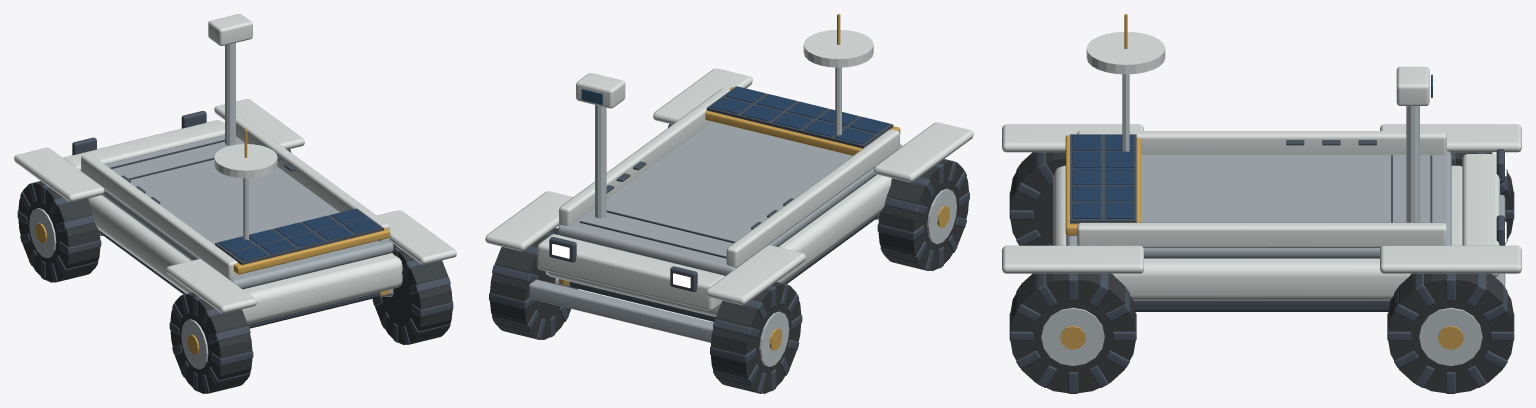
The model's file is improved_rover.glb.
3 views of the same model, side by side, from view 1: azimuth 30°, elevation 25°; view 2: azimuth 150°, elevation 25°; view 3: azimuth 270°, elevation 25° (orthographic). The views are drawn at different scales.
Visible parts, largest first — view 1: Deck, Chassis, Wheel_RL, Wheel_FL, SideRail_L, Wheel_RR, SideRail_R, Fender_FL, Fender_RL, Nose, Fender_RR, AntennaDish (+8 smaller); view 2: Deck, Nose, Chassis, Wheel_FL, SideRail_L, Wheel_RL, FrontBumper, SideRail_R, Wheel_FR, Fender_RL, Fender_FL, Fender_FR (+11 smaller); view 3: Deck, Chassis, SideRail_R, Wheel_FR, Wheel_RR, SideRail_L, Fender_FR, Fender_RR, Nose, Wheel_RL, Belly, AntennaDish (+21 smaller).
Part boxes in pixels (x1=…): Deck: x1=81, y1=135, x2=393, y2=289; Chassis: x1=88, y1=195, x2=402, y2=324; Wheel_RL: x1=170, y1=293, x2=252, y2=393; Wheel_FL: x1=18, y1=181, x2=100, y2=282; SideRail_L: x1=81, y1=154, x2=238, y2=279; Wheel_RR: x1=375, y1=244, x2=452, y2=344; SideRail_R: x1=236, y1=117, x2=389, y2=241; Fender_FL: x1=14, y1=147, x2=104, y2=201; Fender_RL: x1=166, y1=259, x2=256, y2=313; Nose: x1=63, y1=120, x2=224, y2=170; Fender_RR: x1=377, y1=210, x2=456, y2=264; AntennaDish: x1=214, y1=144, x2=277, y2=178; Deck: x1=557, y1=121, x2=902, y2=275; Nose: x1=537, y1=234, x2=724, y2=310; Chassis: x1=545, y1=174, x2=891, y2=316; Wheel_FL: x1=710, y1=282, x2=801, y2=393; SideRail_L: x1=726, y1=129, x2=899, y2=267; Wheel_RL: x1=878, y1=159, x2=968, y2=270; FrontBumper: x1=529, y1=279, x2=713, y2=342; SideRail_R: x1=559, y1=88, x2=730, y2=225; Wheel_FR: x1=490, y1=228, x2=570, y2=339; Fender_RL: x1=874, y1=122, x2=973, y2=182; Fender_FL: x1=706, y1=245, x2=805, y2=305; Fender_FR: x1=485, y1=191, x2=572, y2=251; Deck: x1=1066, y1=151, x2=1451, y2=258; Chassis: x1=1053, y1=165, x2=1462, y2=300; SideRail_R: x1=1077, y1=222, x2=1446, y2=248; Wheel_FR: x1=1387, y1=273, x2=1513, y2=393; Wheel_RR: x1=1010, y1=273, x2=1136, y2=393; SideRail_L: x1=1077, y1=131, x2=1446, y2=154; Fender_FR: x1=1380, y1=245, x2=1521, y2=273; Fender_RR: x1=1002, y1=245, x2=1143, y2=273; Nose: x1=1462, y1=154, x2=1499, y2=276; Wheel_RL: x1=1010, y1=152, x2=1065, y2=245; Belly: x1=1133, y1=301, x2=1390, y2=311; AntennaDish: x1=1086, y1=32, x2=1165, y2=74.
Bounding box in the file's own units: 2.26 × 2.06 × 3.44.
